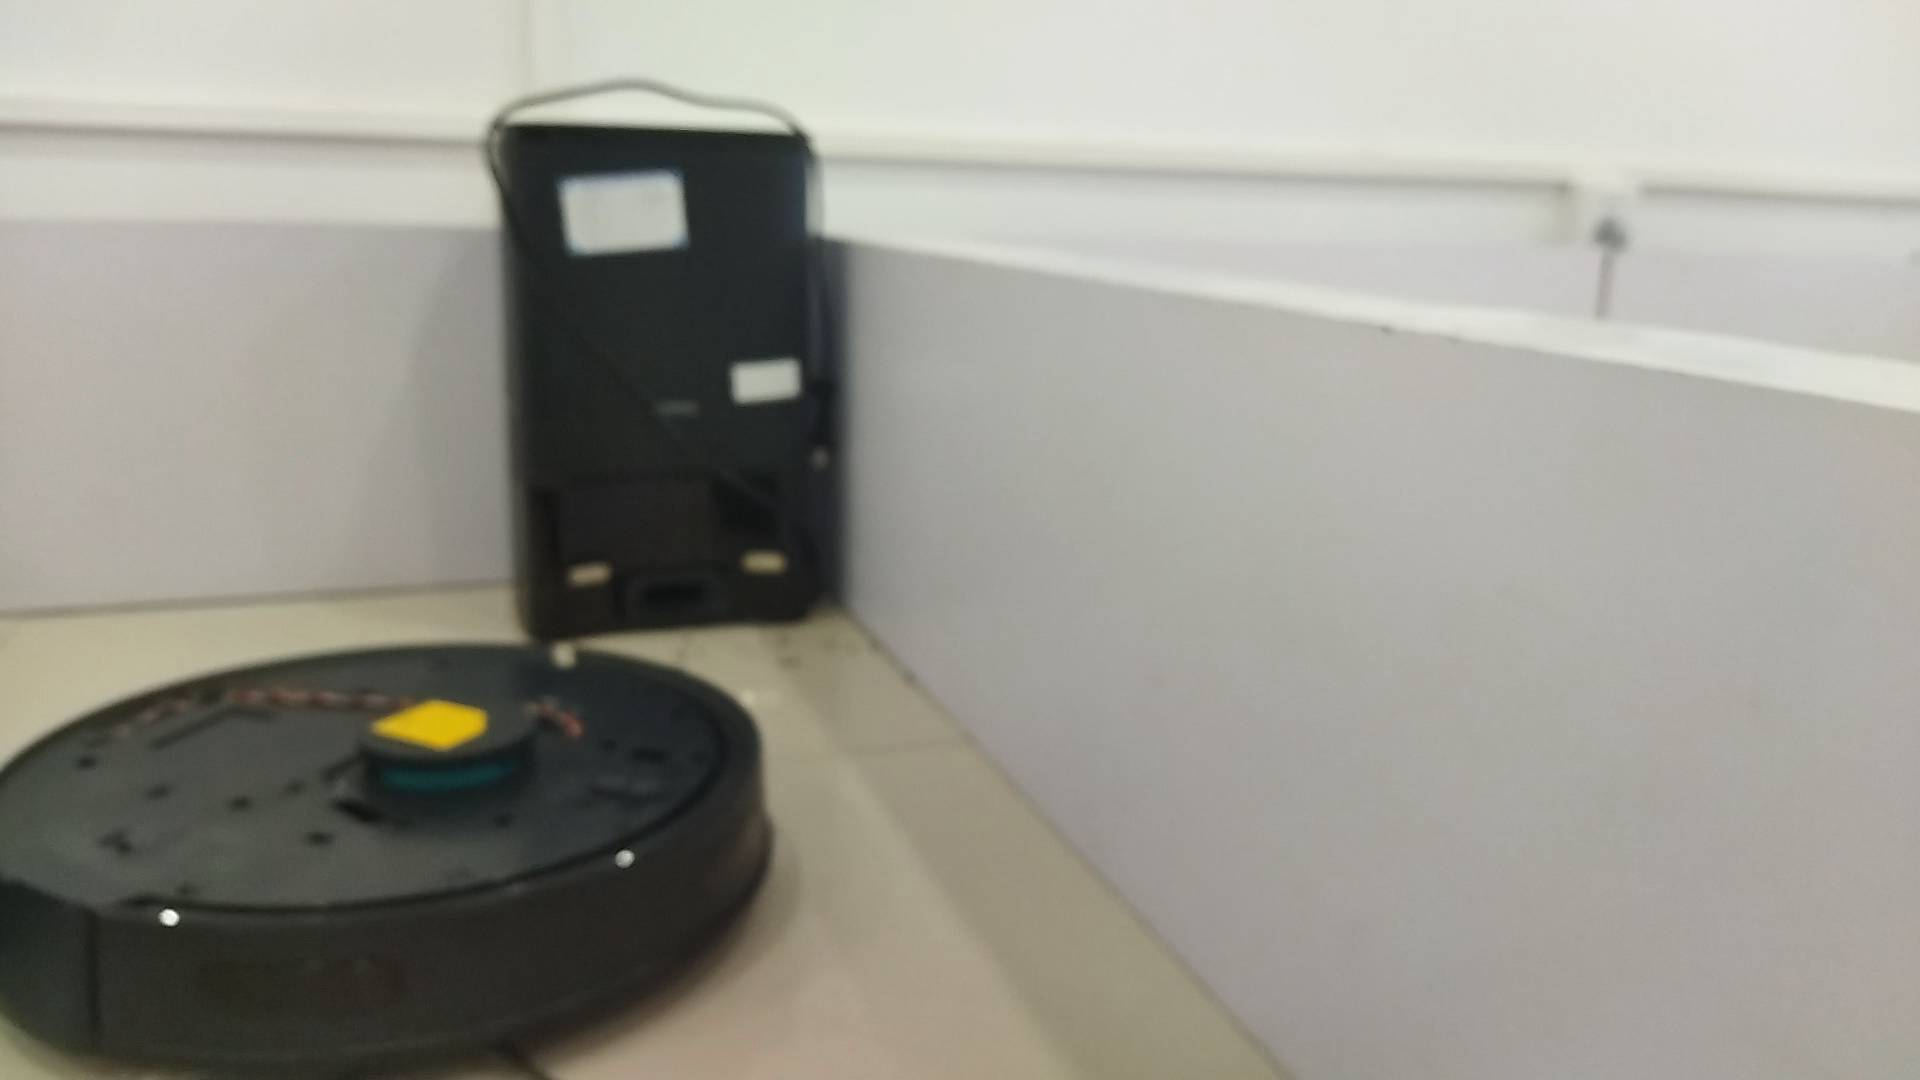dust collecting barrel: (504, 123, 824, 638)
